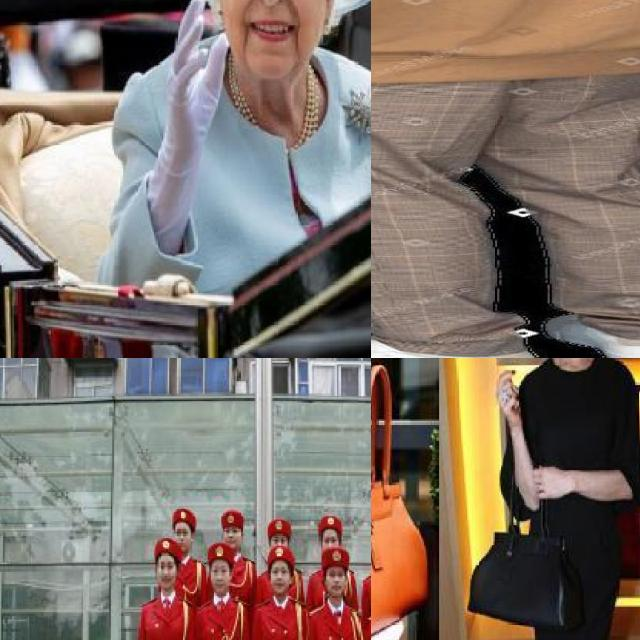face_nomask: (229, 0, 326, 93), (151, 552, 178, 590), (269, 561, 294, 597), (211, 560, 231, 595), (328, 566, 348, 596)
hand_glove: (155, 0, 229, 214)
hand_noglove: (532, 462, 572, 501), (497, 370, 522, 424)
head_nohelmet: (148, 535, 182, 561), (217, 508, 248, 533), (322, 546, 348, 575), (266, 543, 294, 569), (207, 541, 233, 567), (171, 507, 198, 531), (267, 516, 291, 542), (318, 516, 342, 537)
person: (371, 0, 640, 358), (110, 0, 371, 305), (479, 358, 640, 640), (186, 530, 249, 640), (124, 530, 184, 640), (306, 542, 360, 640), (252, 538, 296, 640)
